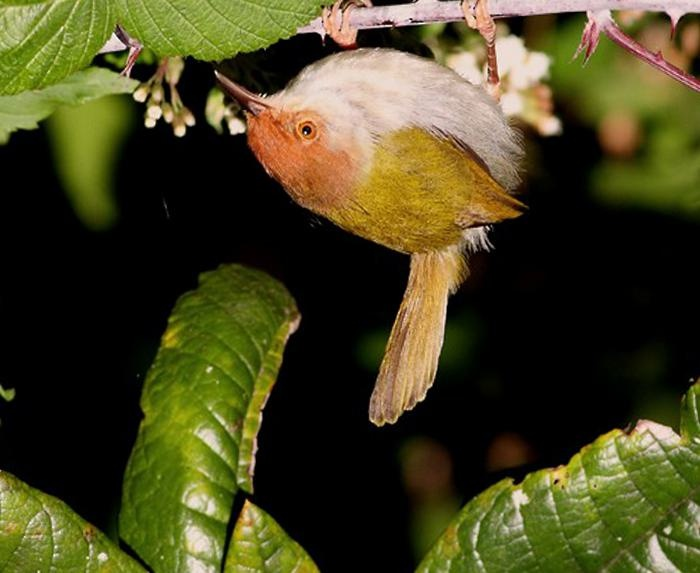tailorbird: (227, 9, 538, 440)
